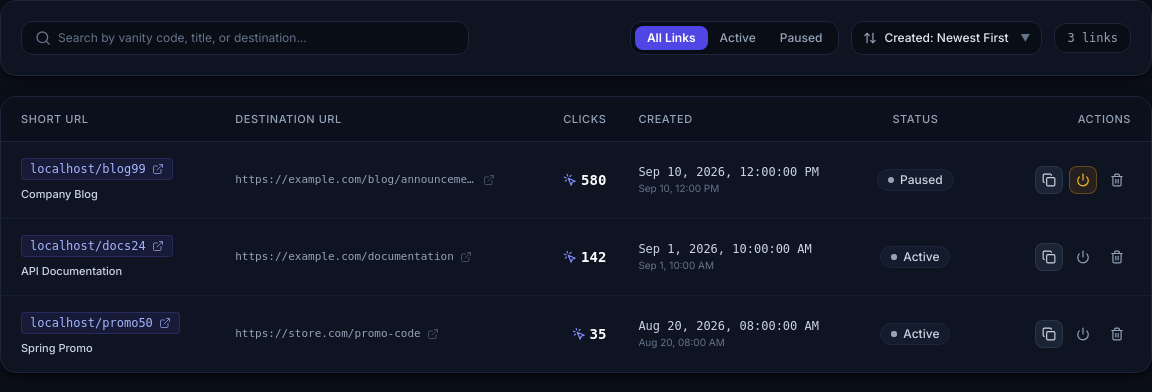
Scenario: MyLinksView Component Tests › filters URLs by search query
This screenshot has width=1152, height=392.
Step 1. Type "blog" into the field with placeholder "Search by vanity code, title, or destination..." → (245, 38), box [21,21,469,55]
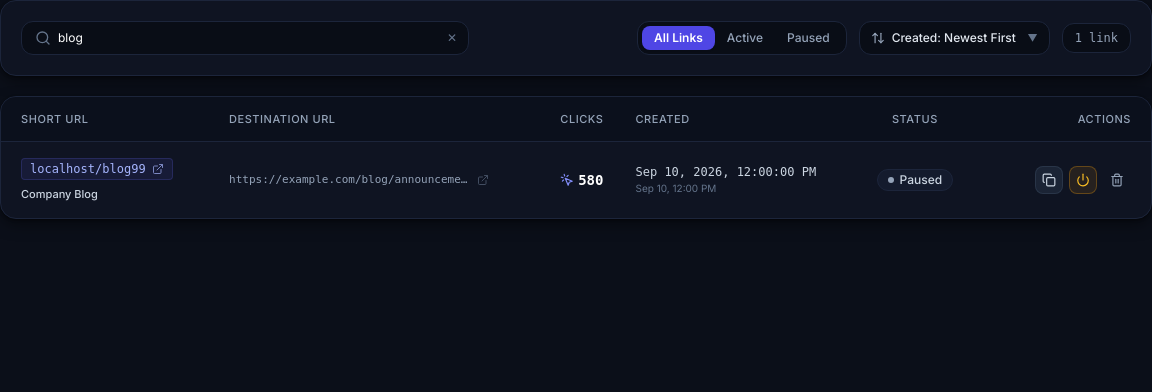
Check: the text "Company Blog" is shown, box [21,187,98,201]
Check: the text "API Documentation" is gone
Check: the text "Spring Promo" is gone
